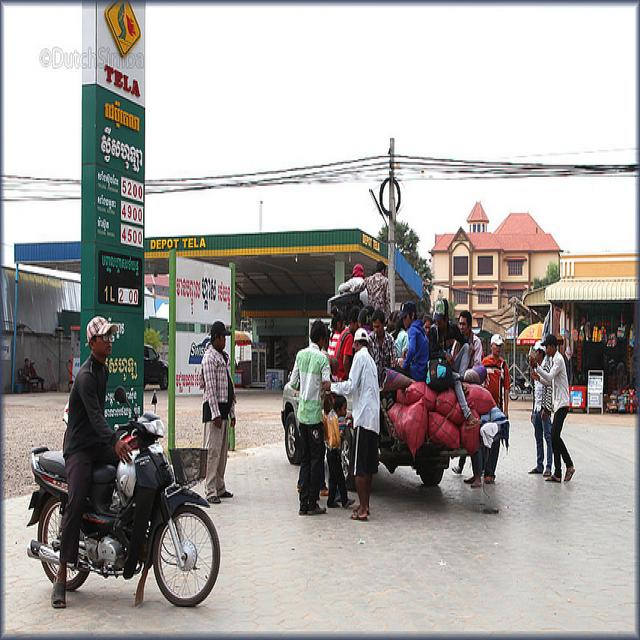motor: (23, 385, 221, 613), (509, 375, 532, 401)
